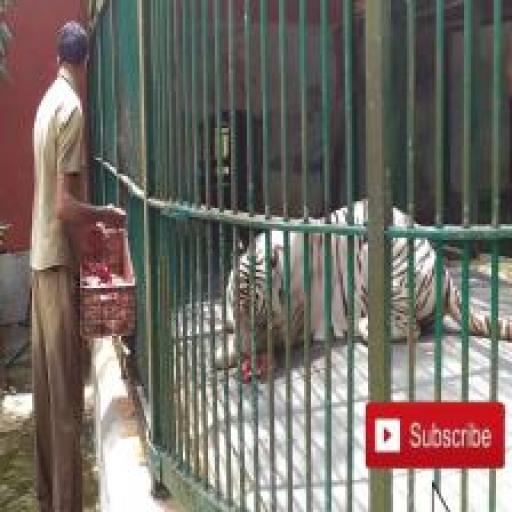Tiger: (212, 196, 512, 372)
